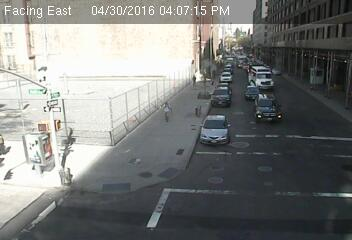neg: (7, 132, 26, 159), (97, 128, 112, 149), (258, 98, 272, 117), (104, 32, 118, 51), (37, 122, 50, 139), (258, 7, 271, 24), (140, 42, 153, 58), (206, 128, 218, 144), (307, 84, 318, 98), (222, 50, 233, 64), (58, 18, 69, 32), (293, 141, 304, 155), (60, 136, 71, 149), (235, 108, 245, 122), (194, 36, 204, 50), (165, 39, 175, 51), (318, 78, 327, 91), (287, 59, 296, 71), (233, 139, 242, 150), (261, 66, 269, 78), (240, 34, 248, 44), (212, 5, 220, 15), (134, 12, 142, 22), (128, 92, 136, 102), (87, 17, 94, 27), (289, 101, 295, 109), (178, 11, 184, 19)
pos: (154, 99, 175, 127), (185, 71, 201, 93)
